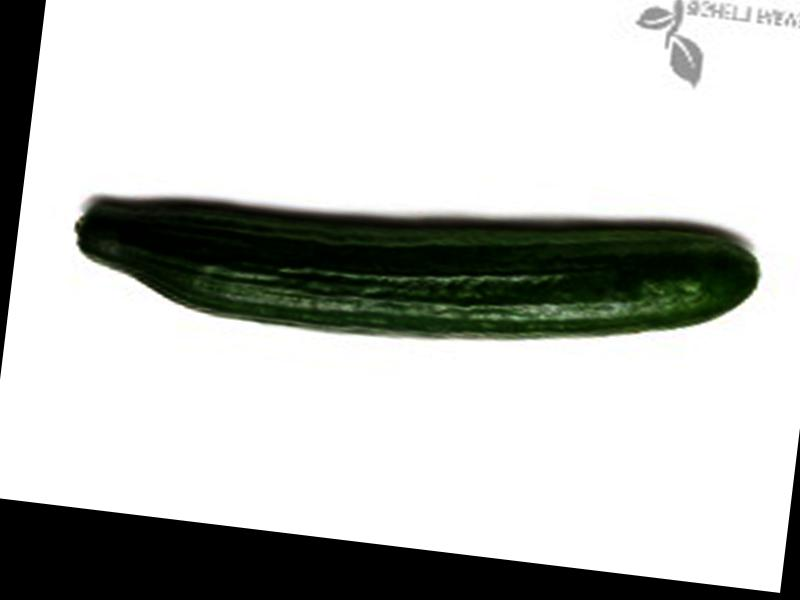Cucumber: (67, 156, 766, 381)
